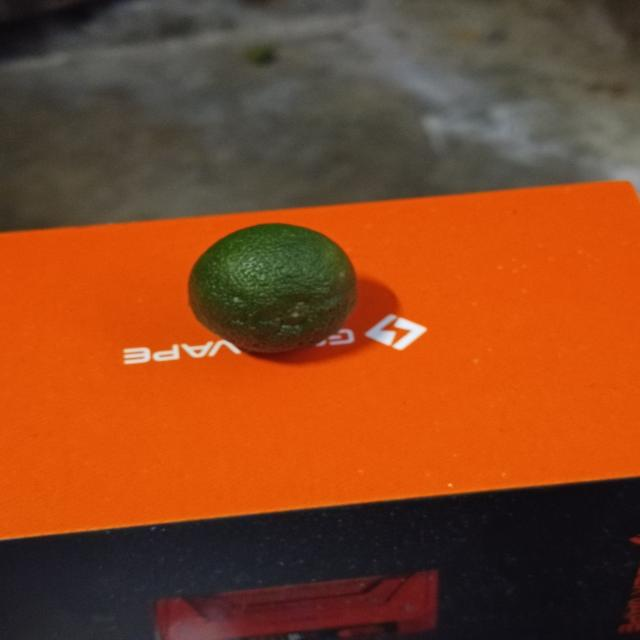heathy: (178, 213, 371, 363)
